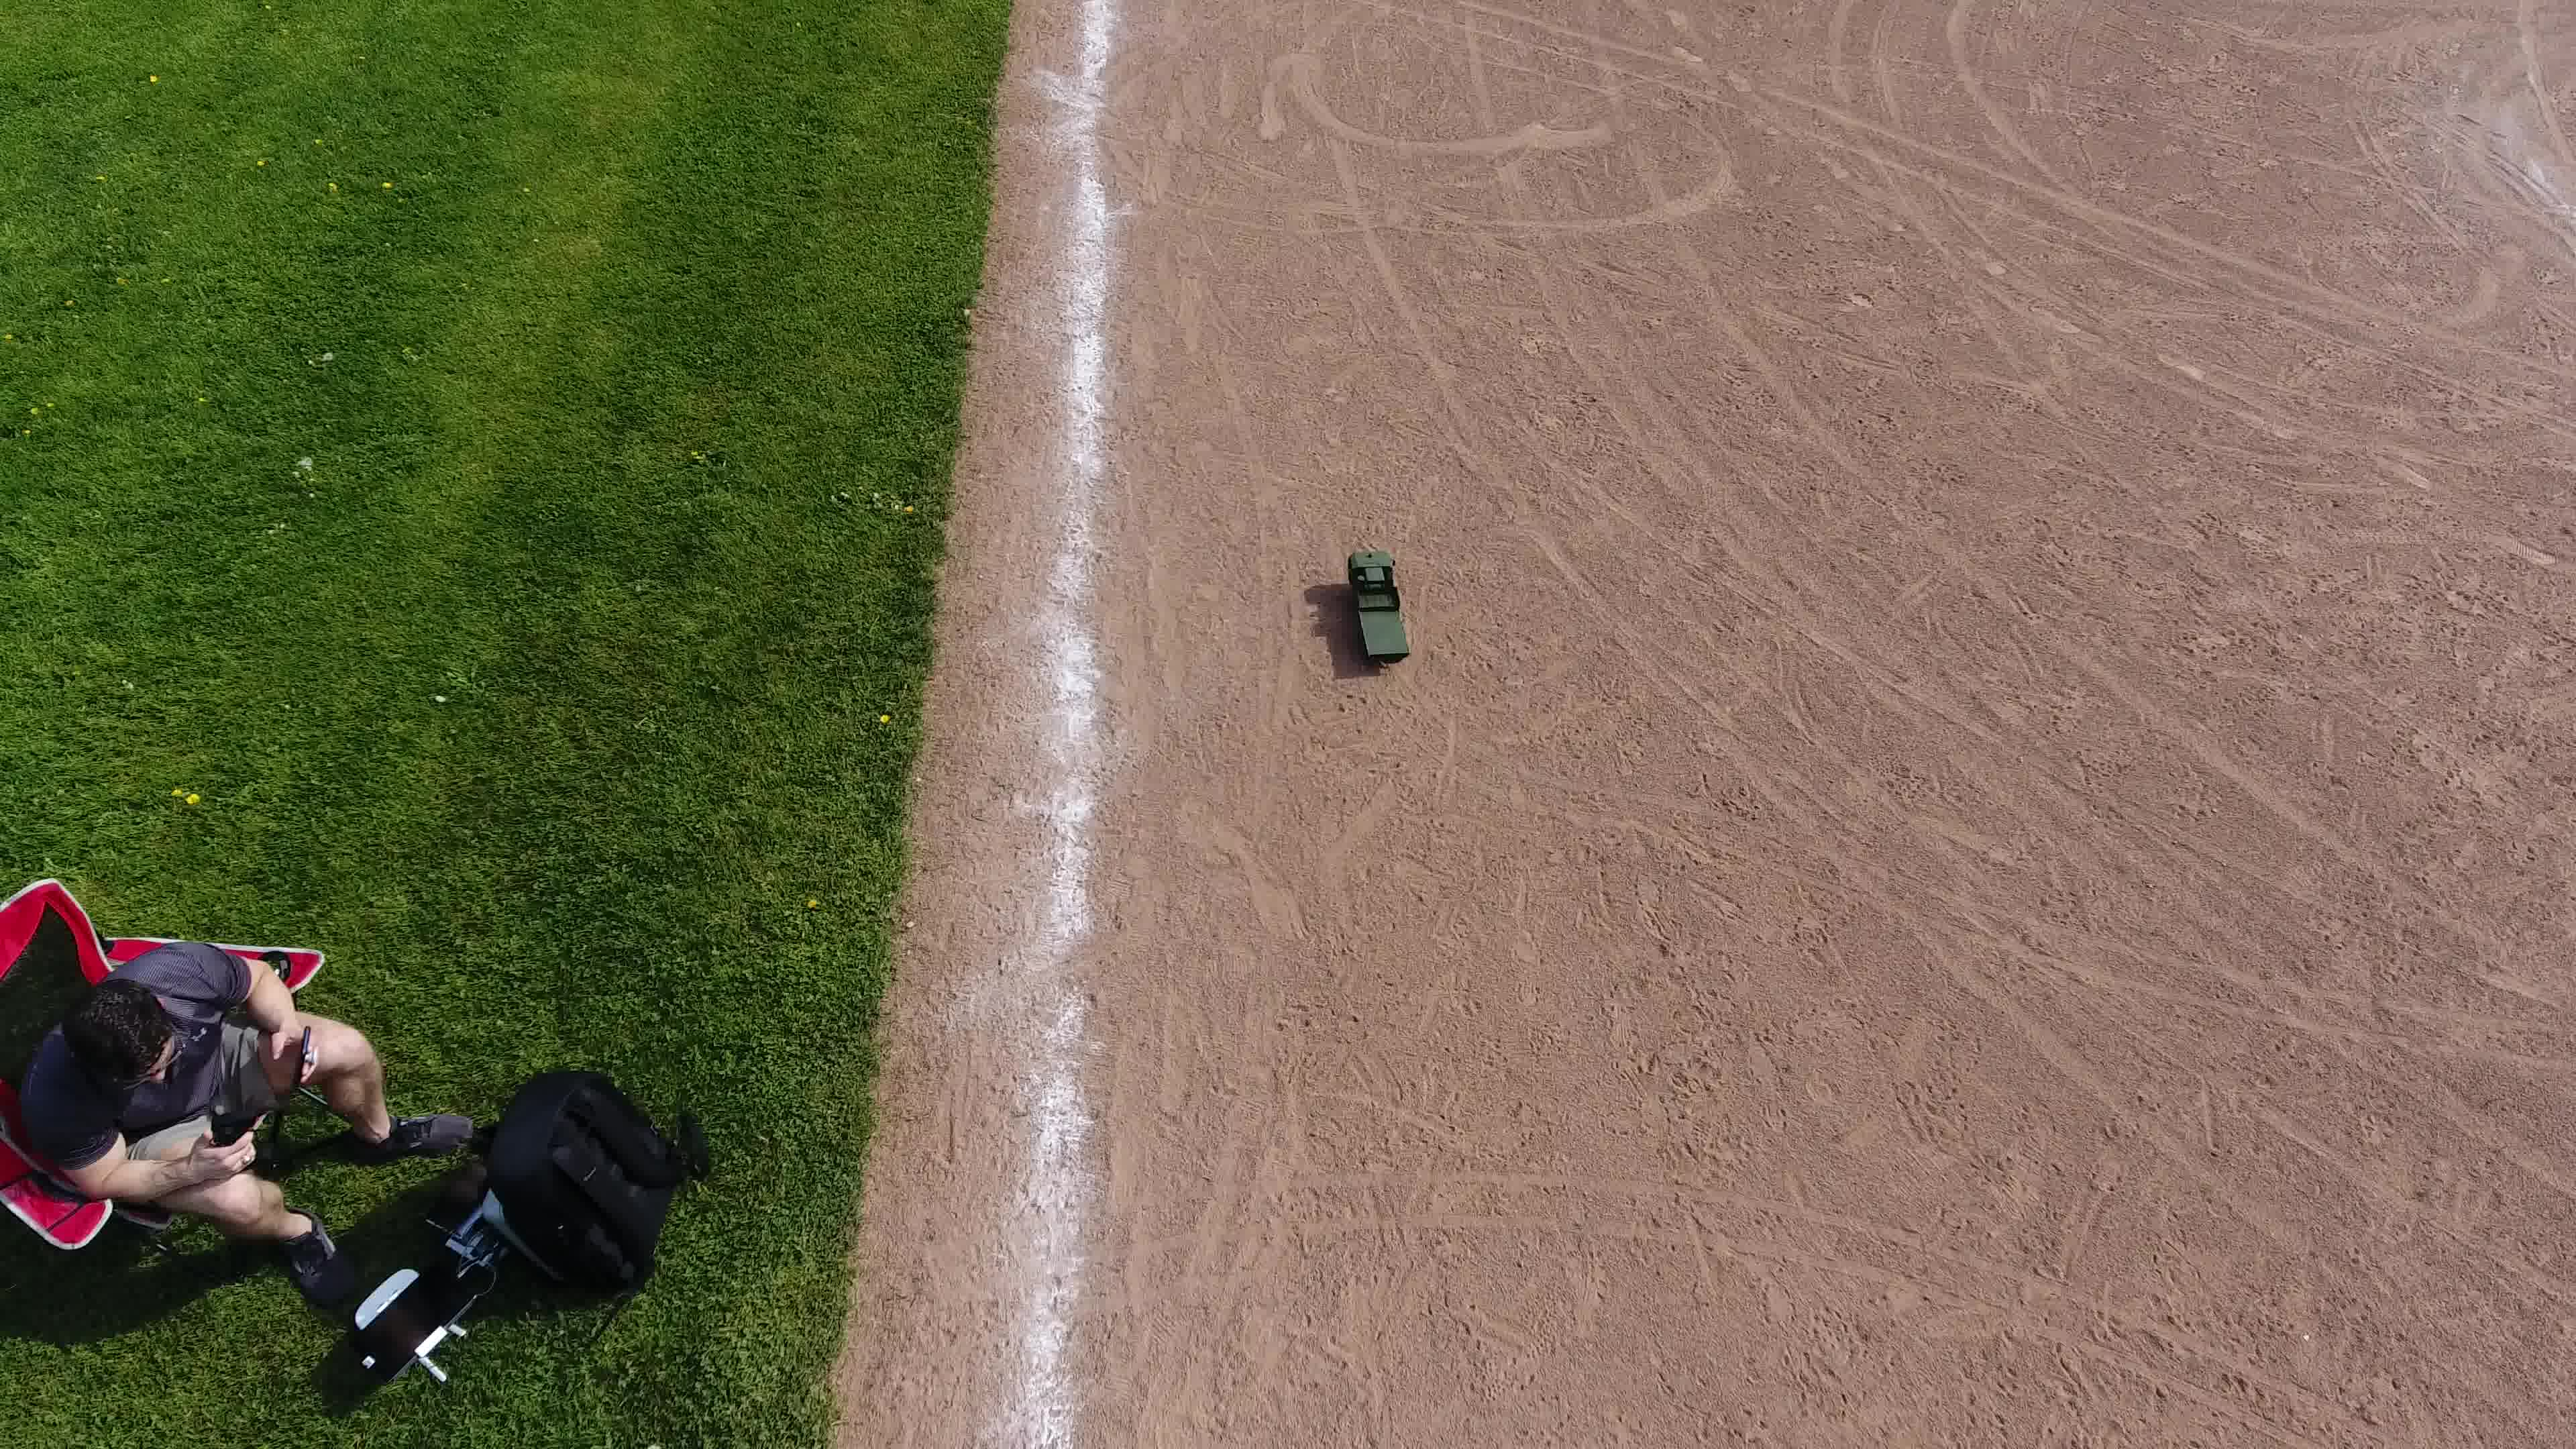transporter9: (1343, 543, 1421, 671)
